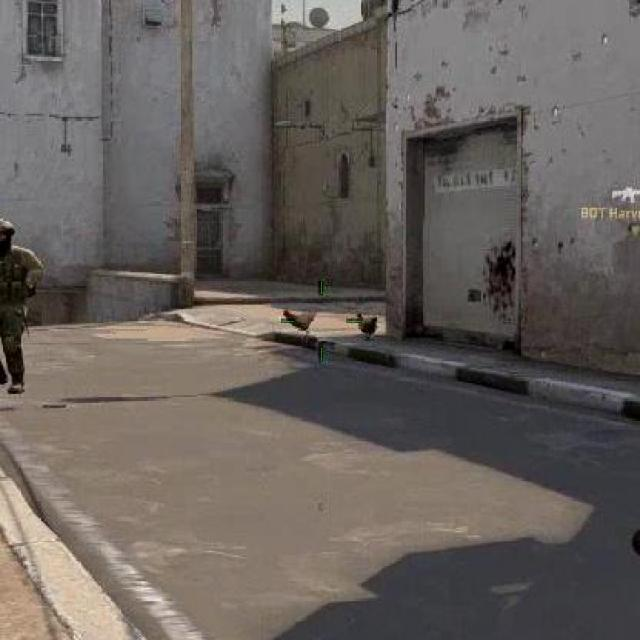CT-Body: (0, 220, 20, 252)
CT-Head: (0, 217, 48, 405)
